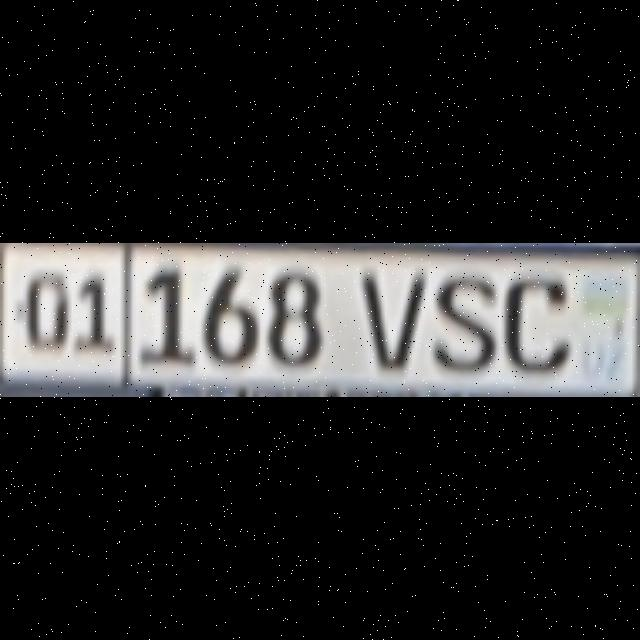0: (24, 270, 61, 348)
1: (138, 263, 188, 361), (70, 273, 108, 347)
6: (198, 267, 256, 361)
8: (266, 270, 316, 360)
C: (499, 273, 563, 371)
S: (428, 270, 488, 368)
V: (361, 270, 422, 368)
